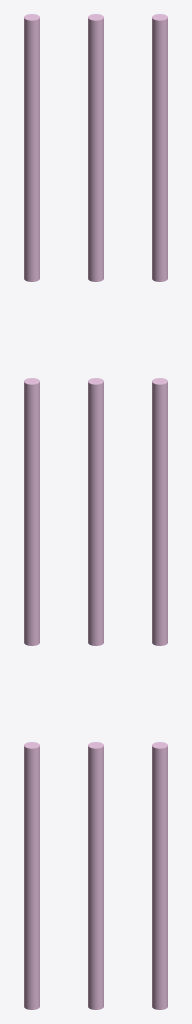
Rendered from stream_3.glb.
The picture shows the model from 3 angles, left to right: view 1: azimuth 90°, elevation 25°; view 2: azimuth 150°, elevation 25°; view 3: azimuth 330°, elevation 25°; orthographic projection.
Parts seen in each view (by area): view 1: stream_model; view 2: stream_model; view 3: stream_model.
Boxes of the visible parts, x1=… form: stream_model: x1=24, y1=14, x2=39, y2=1009; stream_model: x1=88, y1=14, x2=103, y2=1009; stream_model: x1=152, y1=14, x2=167, y2=1009.
Size of the model in its own units: 1.25 by 86.54 by 1.27.
